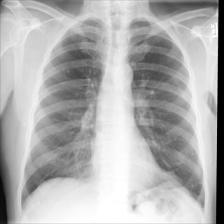normal: (18, 14, 207, 212)
